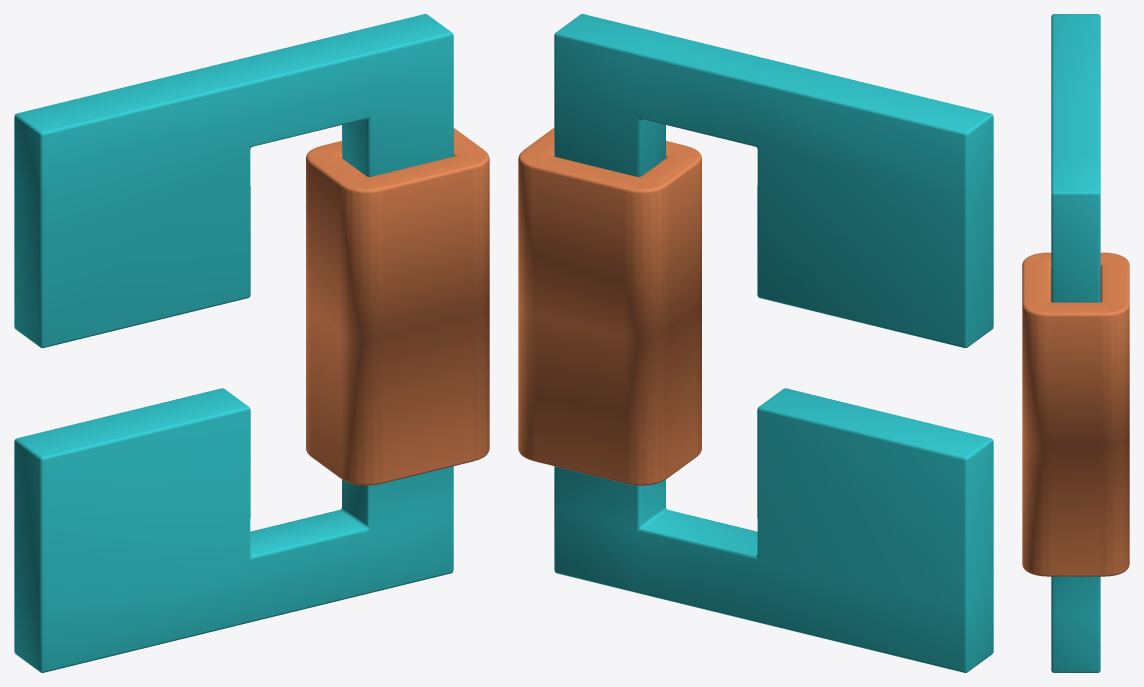
Rendered from horizontal_corrector.glb.
The picture shows the model from 3 angles, left to right: view 1: azimuth 30°, elevation 25°; view 2: azimuth 150°, elevation 25°; view 3: azimuth 270°, elevation 25°; orthographic projection. The views are drawn at different scales.
Parts seen in each view (by area): view 1: Steerer Core, Steerer coil; view 2: Steerer Core, Steerer coil; view 3: Steerer coil, Steerer Core.
Boxes of the visible parts, left/top/right/bottom form: Steerer Core: left=14, top=14, right=453, bottom=672; Steerer coil: left=306, top=128, right=489, bottom=485; Steerer Core: left=554, top=14, right=993, bottom=672; Steerer coil: left=518, top=128, right=701, bottom=485; Steerer coil: left=1022, top=252, right=1129, bottom=576; Steerer Core: left=1051, top=14, right=1100, bottom=672.
Bounding box in the file's own units: 1.59 × 1.85 × 0.3758.
